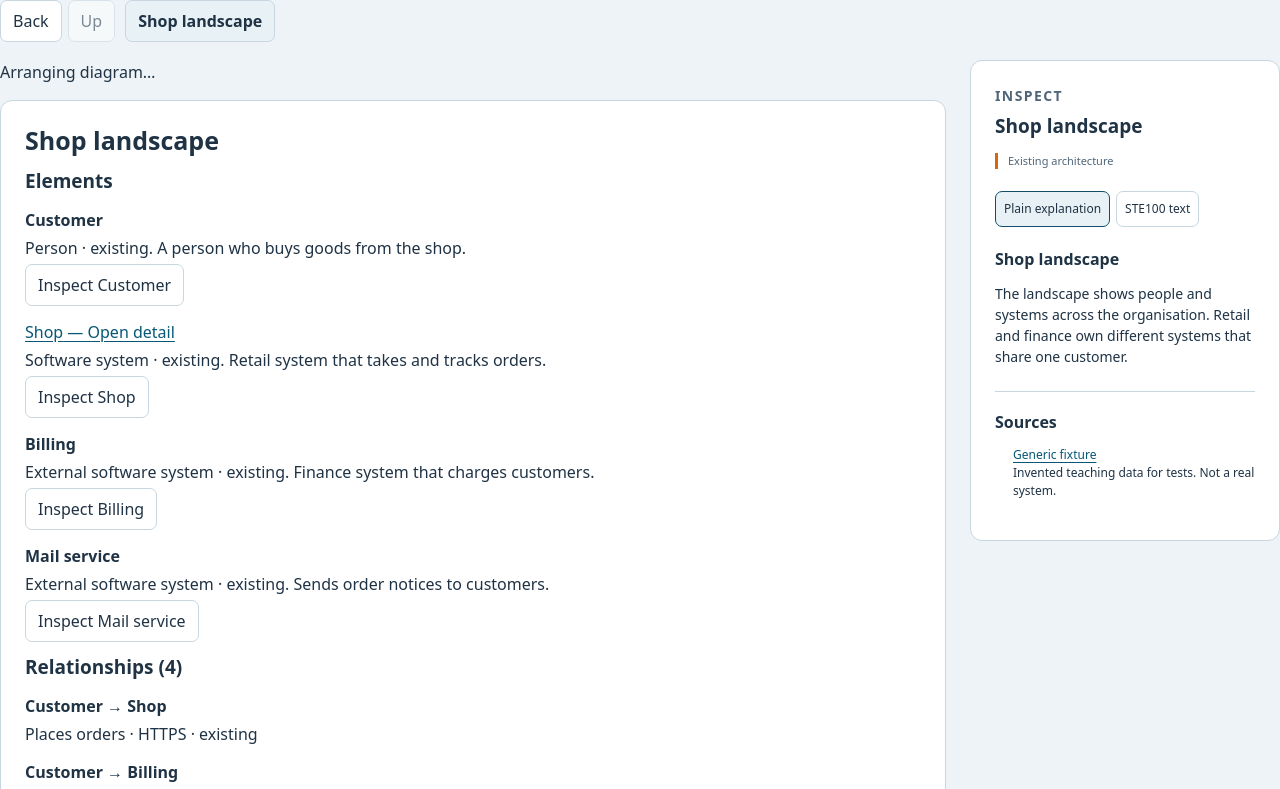
Test: named wrappers validate the actual routed kind › navigating through a drill link into another kind is rejected by a narrower wrapper without leaving the shared route
The width and height of the screenshot is (1280, 789).
What coordinates should you click on to do the following:
click the link with aria-label "Open detail for Shop"
I would click on:
 (44, 332)
Its box is [25,321,175,343].
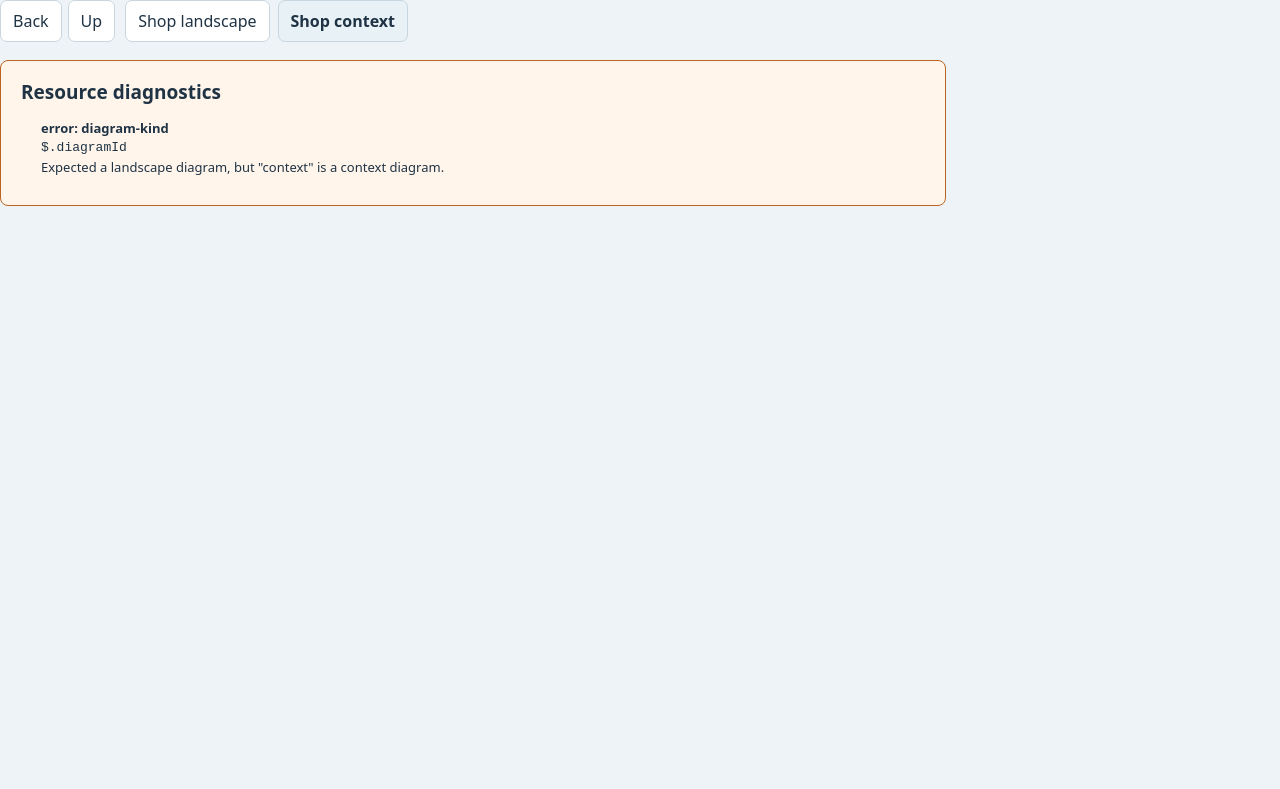
Expected: the text "Expected a landscape diagram, but \"context\" is a context diagram." is shown, [41,158,444,176]
